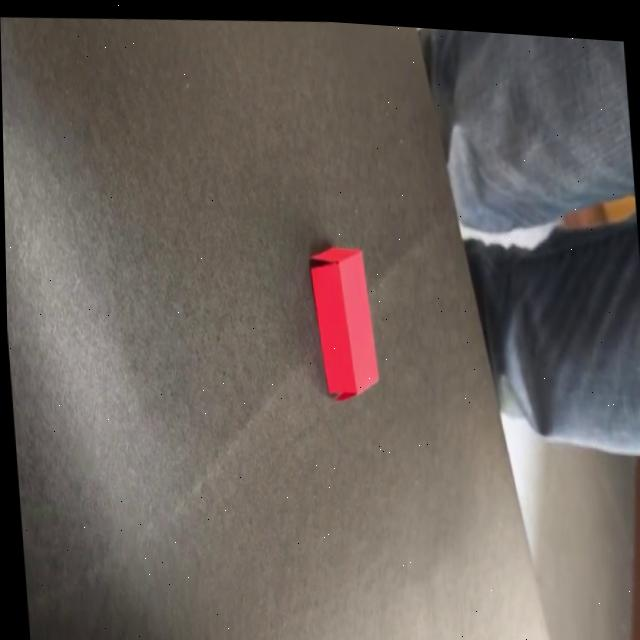red block: (308, 243, 383, 405)
